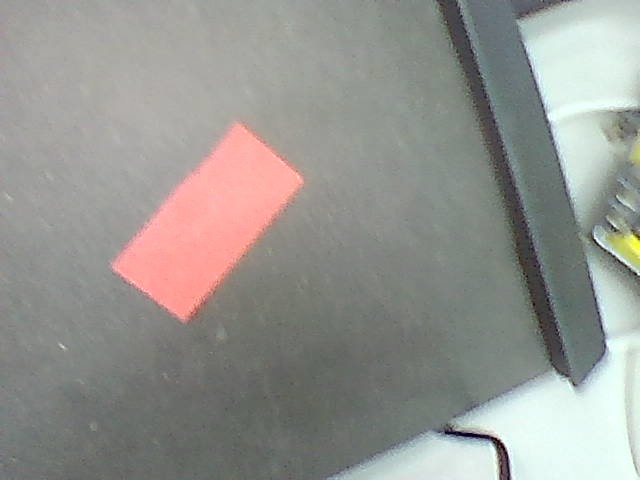card: (112, 124, 302, 322)
